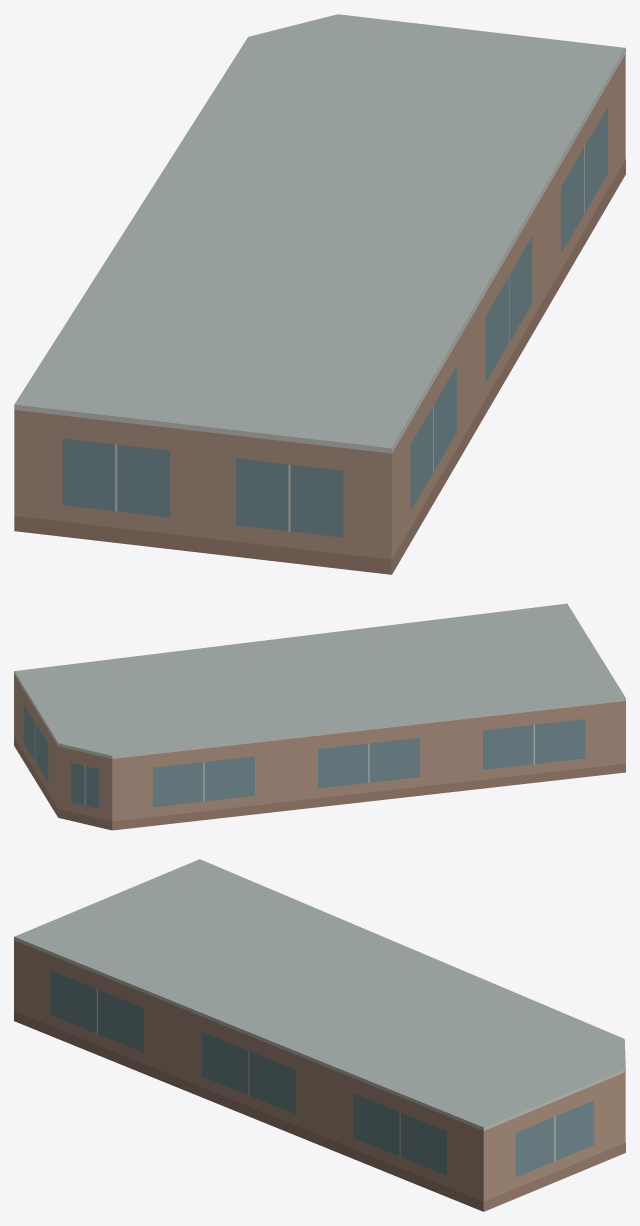
File: survey-upis-32752106.glb
3 renders of one model, top to bottom at view 1: azimuth 30°, elevation 25°; view 2: azimuth 150°, elevation 25°; view 3: azimuth 270°, elevation 25°, orthographic. The views are drawn at different scales.
Visible parts, largest first — view 1: survey-upis-32752106.tmp; view 2: survey-upis-32752106.tmp; view 3: survey-upis-32752106.tmp.
Boxes of the visible parts, <box> form: survey-upis-32752106.tmp: <box>14,14,625,574</box>; survey-upis-32752106.tmp: <box>14,603,625,830</box>; survey-upis-32752106.tmp: <box>14,859,625,1211</box>.
Size of the model in its own units: 20.83 by 3.05 by 20.06.
